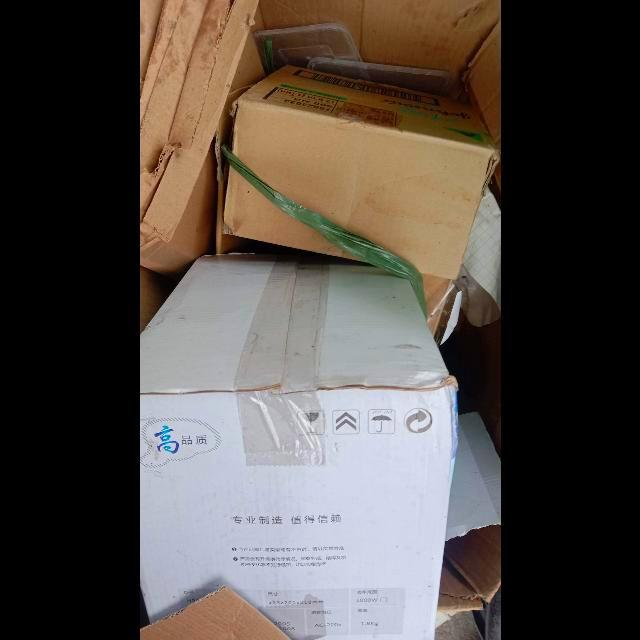cardboard: (139, 253, 458, 640), (222, 66, 499, 315), (139, 0, 265, 274), (437, 412, 501, 614), (139, 588, 289, 640)
plastic_container: (252, 23, 363, 77), (306, 57, 451, 96)
